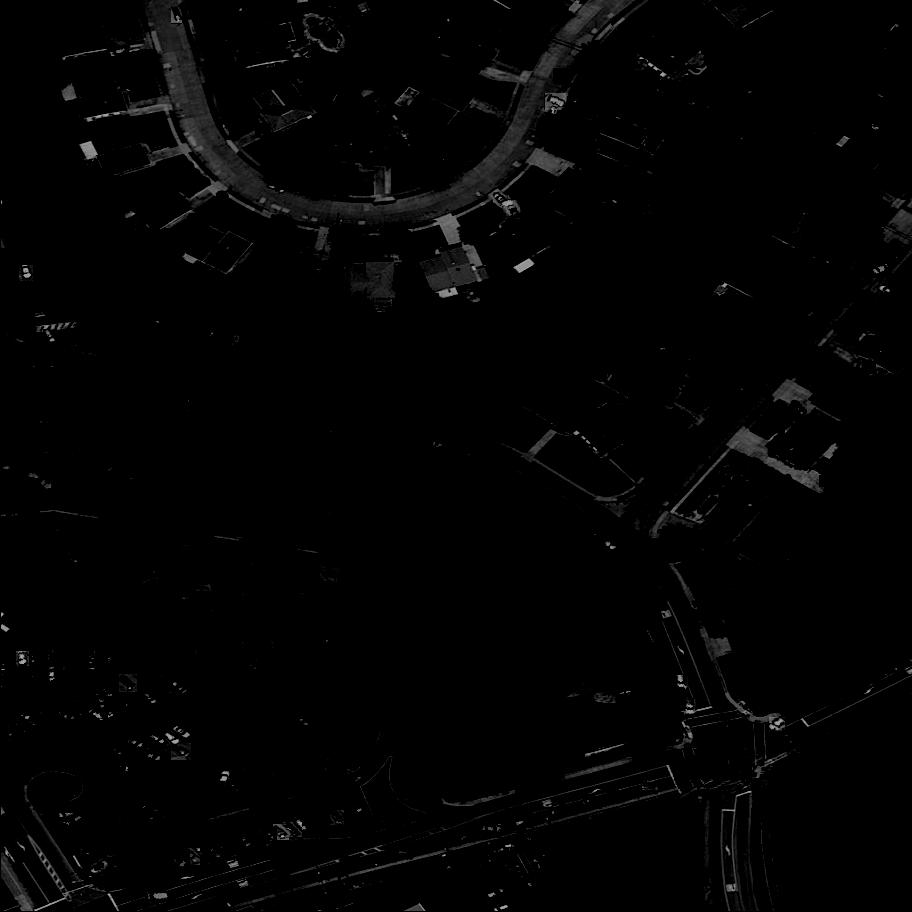large-vehicle: (675, 760, 751, 779)
small-vehicle: (87, 706, 109, 727), (526, 875, 549, 893), (171, 680, 191, 699), (106, 697, 127, 715), (871, 262, 893, 279), (503, 199, 520, 221), (545, 93, 567, 110), (89, 687, 108, 706), (119, 675, 138, 694), (182, 848, 201, 867), (91, 859, 111, 877), (171, 744, 192, 761), (201, 841, 222, 858), (425, 435, 447, 451), (293, 712, 311, 731), (293, 814, 310, 834), (213, 840, 234, 856), (852, 361, 877, 374), (273, 824, 291, 842), (50, 714, 68, 732), (347, 799, 366, 816), (236, 831, 253, 850), (173, 724, 192, 741), (99, 682, 116, 701), (879, 285, 898, 302), (65, 814, 85, 830), (515, 814, 535, 830), (127, 756, 145, 773), (284, 822, 302, 839), (790, 400, 807, 418), (101, 702, 117, 721), (466, 893, 485, 909), (330, 808, 345, 828), (218, 769, 232, 790), (58, 710, 79, 724), (109, 46, 130, 60), (163, 684, 180, 701), (255, 123, 272, 140), (172, 853, 190, 869), (238, 405, 264, 416), (14, 707, 33, 722), (30, 702, 49, 717), (554, 68, 569, 87), (820, 475, 840, 489), (145, 750, 165, 764), (341, 857, 361, 871), (165, 731, 182, 747), (44, 700, 61, 716), (260, 828, 277, 844), (602, 537, 619, 553), (108, 744, 126, 759), (488, 889, 506, 904), (460, 884, 479, 898), (569, 94, 586, 109), (84, 845, 101, 860), (770, 717, 787, 732), (171, 7, 185, 25), (20, 265, 34, 283), (36, 721, 55, 734), (549, 804, 568, 817), (144, 693, 160, 708), (192, 844, 208, 859), (437, 151, 452, 167), (459, 830, 477, 843), (55, 803, 74, 815), (44, 329, 58, 345), (150, 733, 167, 746), (16, 652, 29, 669), (582, 797, 602, 808), (430, 862, 442, 880), (494, 192, 509, 206), (606, 791, 625, 802), (684, 697, 695, 716), (146, 894, 169, 903), (147, 809, 159, 826), (16, 725, 33, 737), (129, 739, 147, 750), (106, 645, 117, 663), (481, 826, 503, 835), (117, 763, 133, 775), (70, 825, 87, 836), (139, 796, 151, 811), (120, 698, 136, 709), (28, 668, 39, 683), (635, 60, 649, 71), (58, 812, 75, 821), (73, 832, 90, 841), (483, 847, 492, 864), (48, 668, 57, 684), (86, 652, 95, 667), (161, 807, 171, 820), (29, 648, 37, 664), (15, 672, 24, 686), (456, 858, 465, 872), (499, 855, 514, 863), (396, 850, 415, 856), (446, 857, 454, 871), (79, 841, 93, 848), (642, 784, 658, 790), (677, 676, 684, 689), (62, 661, 68, 672)
